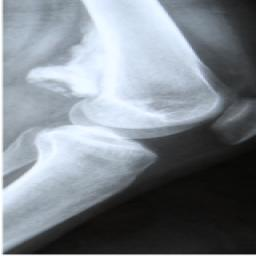cancer: (19, 6, 152, 103)
